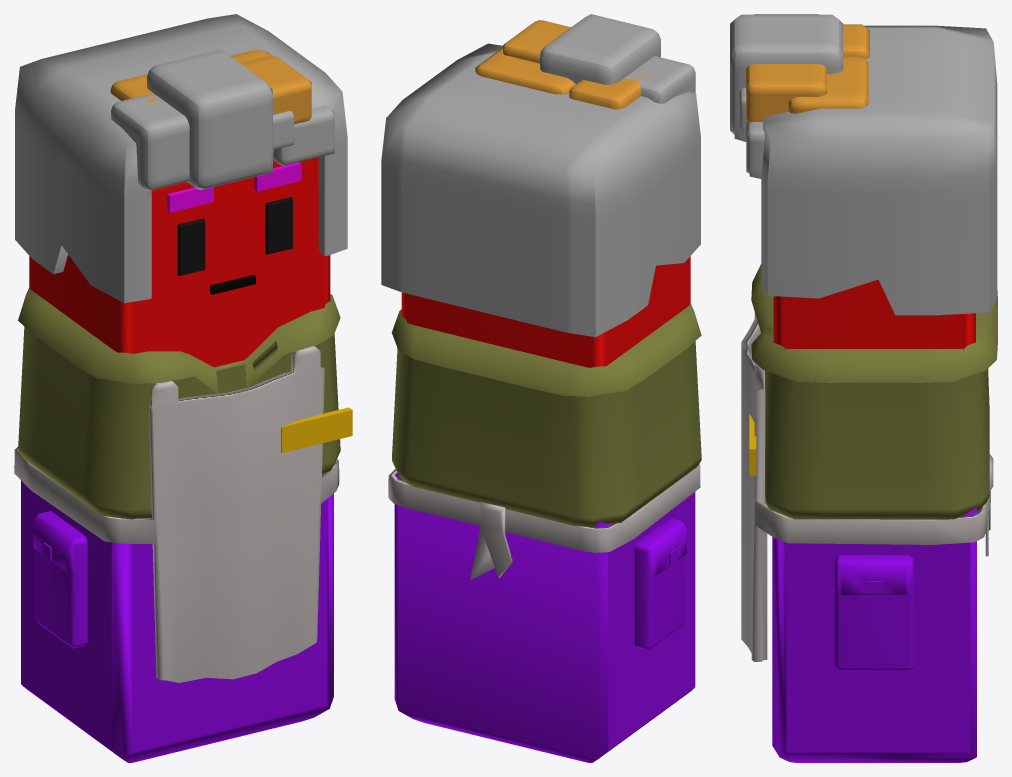
File: Clegg.fbx
The picture shows the model from 3 angles, left to right: view 1: azimuth 30°, elevation 25°; view 2: azimuth 150°, elevation 25°; view 3: azimuth 270°, elevation 25°; orthographic projection. The views are drawn at different scales.
Visible parts, largest first — view 1: PoloA2; view 2: PoloA2; view 3: PoloA2.
Part boxes in pixels (box(x1,y1,x2,y2)): PoloA2: box(14, 14, 352, 762); PoloA2: box(381, 14, 701, 762); PoloA2: box(730, 14, 997, 762).
Bounding box in the file's own units: 0.9868 × 2.42 × 0.8581.
